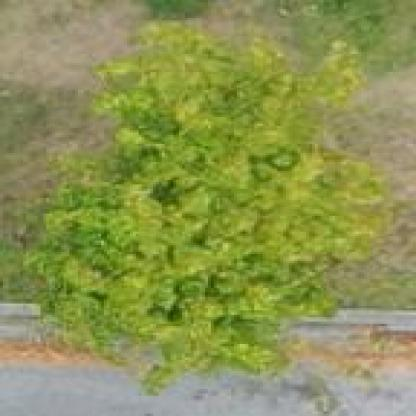Deciduous Tree: (19, 27, 386, 387)
